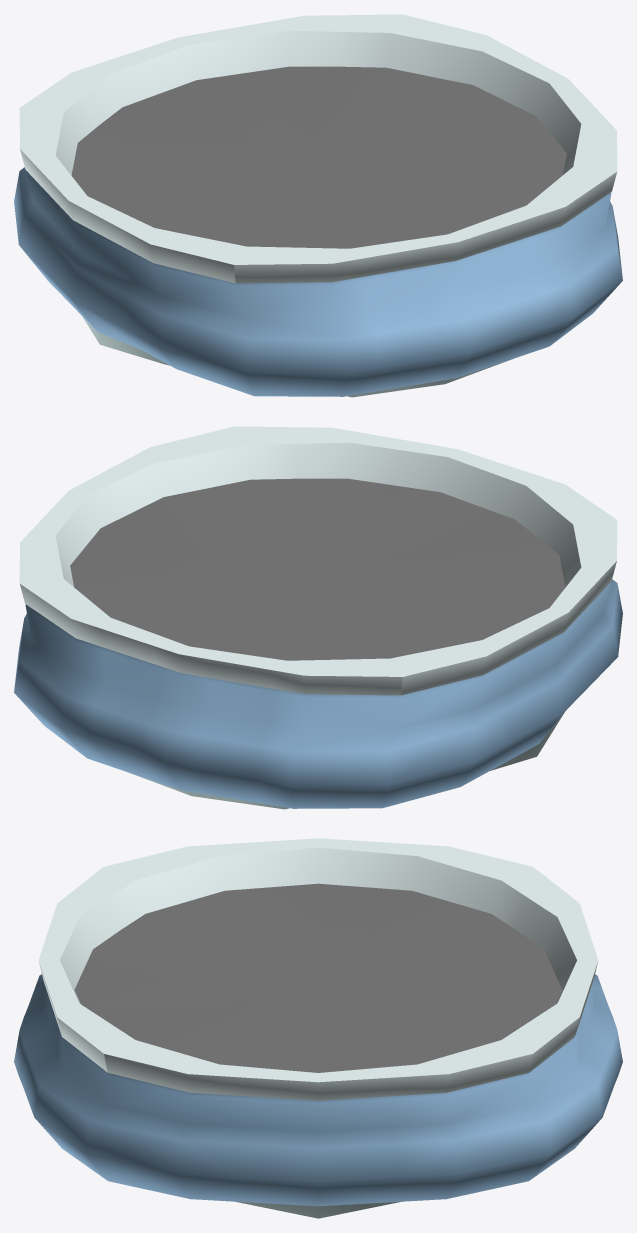
File: pool .fbx
The picture shows the model from 3 angles, top to bottom: view 1: azimuth 30°, elevation 25°; view 2: azimuth 150°, elevation 25°; view 3: azimuth 270°, elevation 25°; orthographic projection.
Visible parts, largest first — view 1: pCube1; view 2: pCube1; view 3: pCube1.
Boxes of the visible parts, x1=… form: pCube1: x1=14, y1=14, x2=622, y2=397; pCube1: x1=14, y1=426, x2=622, y2=809; pCube1: x1=14, y1=838, x2=622, y2=1218.
Size of the model in its own units: 1.88 by 0.5445 by 1.98.
